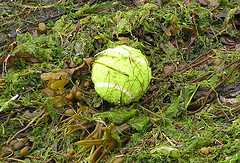tennis ball: (89, 44, 153, 106)
